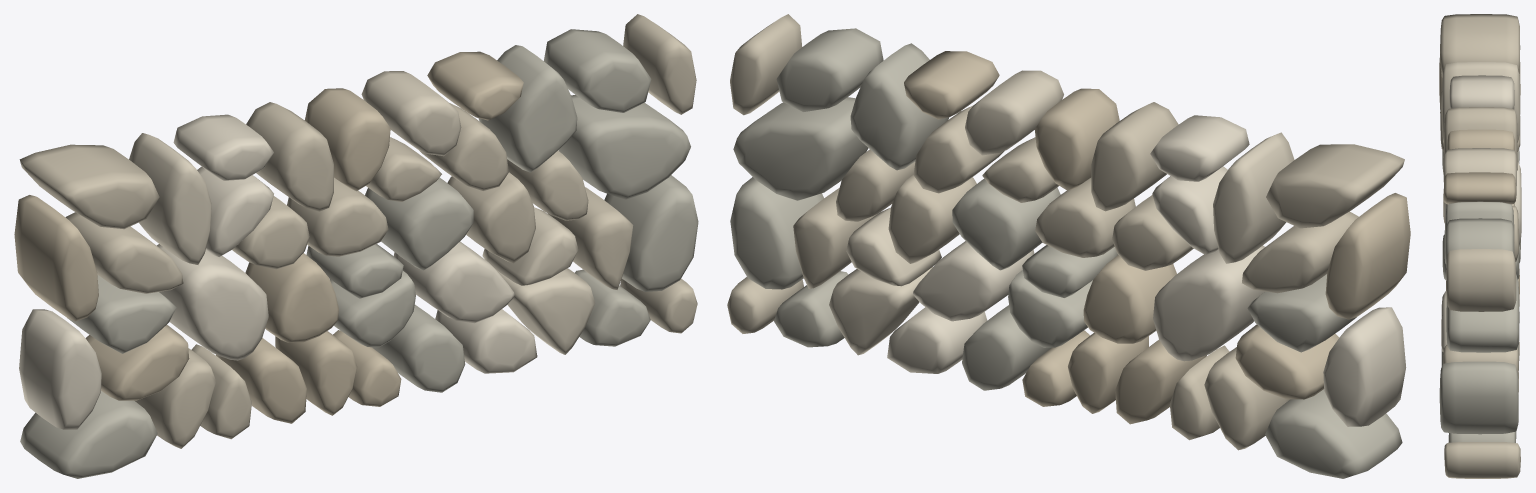
Rendered from SM_StoneWall.fbx.
3 renders of one model, left to right at view 1: azimuth 30°, elevation 25°; view 2: azimuth 150°, elevation 25°; view 3: azimuth 270°, elevation 25°, orthographic. The views are drawn at different scales.
Parts seen in each view (by area): view 1: SM_StoneWall; view 2: SM_StoneWall; view 3: SM_StoneWall.
Part boxes in pixels (x1=…): SM_StoneWall: x1=14, y1=14, x2=698, y2=478; SM_StoneWall: x1=727, y1=14, x2=1410, y2=478; SM_StoneWall: x1=1439, y1=14, x2=1521, y2=478.
Bounding box in the file's own units: 396 × 56.74 × 176.
